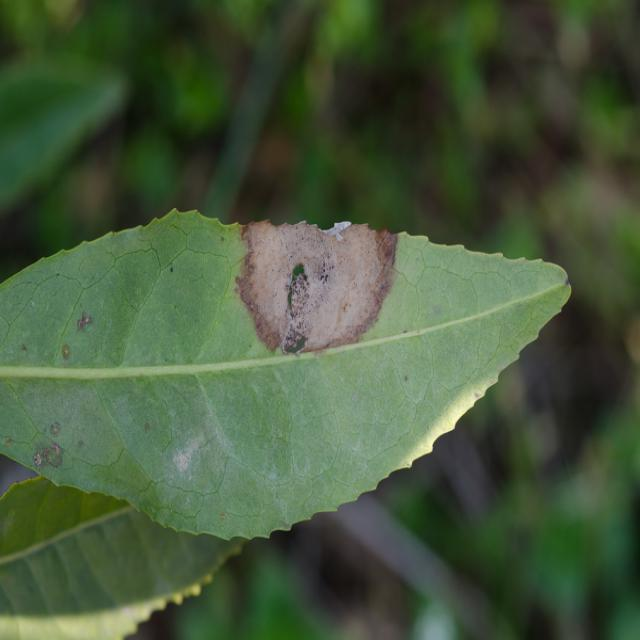Tea cloud leaf blight: (237, 207, 398, 351)
